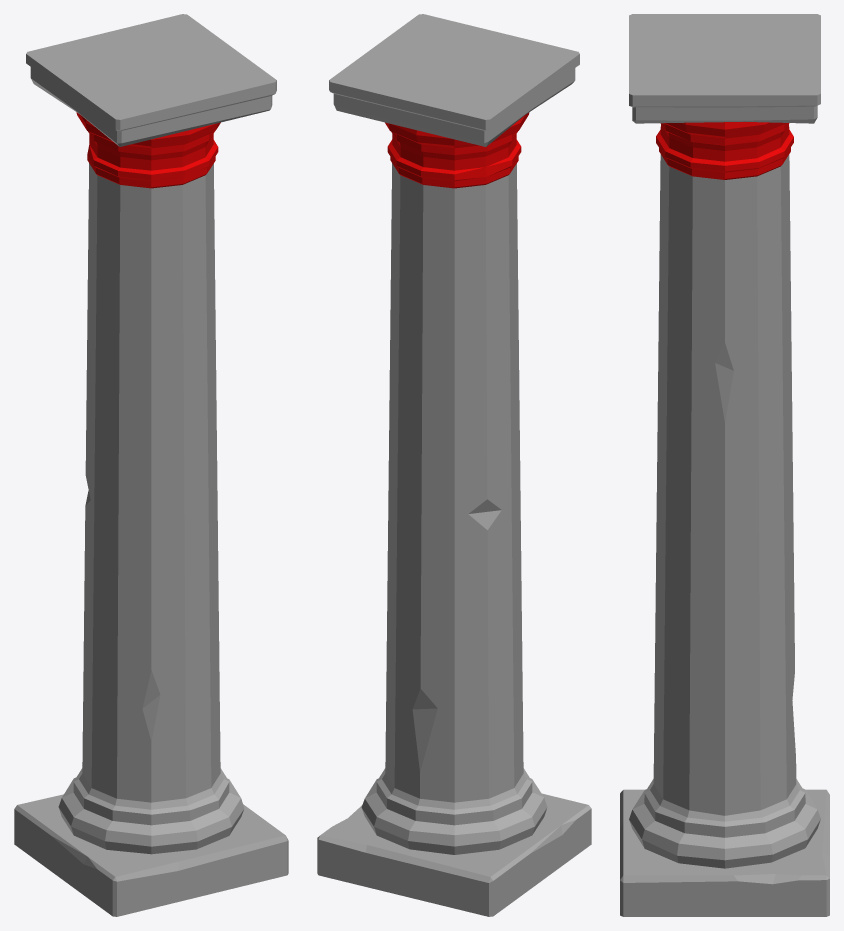
Rendered from SM_Bld_Pillar_01.fbx.
The picture shows the model from 3 angles, left to right: view 1: azimuth 30°, elevation 25°; view 2: azimuth 150°, elevation 25°; view 3: azimuth 270°, elevation 25°; orthographic projection. The views are drawn at different scales.
Parts seen in each view (by area): view 1: SM_Bld_Pillar_01; view 2: SM_Bld_Pillar_01; view 3: SM_Bld_Pillar_01.
Part boxes in pixels (x1,y1,x2,y2): SM_Bld_Pillar_01: (14, 14, 288, 916); SM_Bld_Pillar_01: (317, 14, 591, 916); SM_Bld_Pillar_01: (620, 14, 829, 916).
Bounding box in the file's own units: 69.73 × 300 × 69.73.
